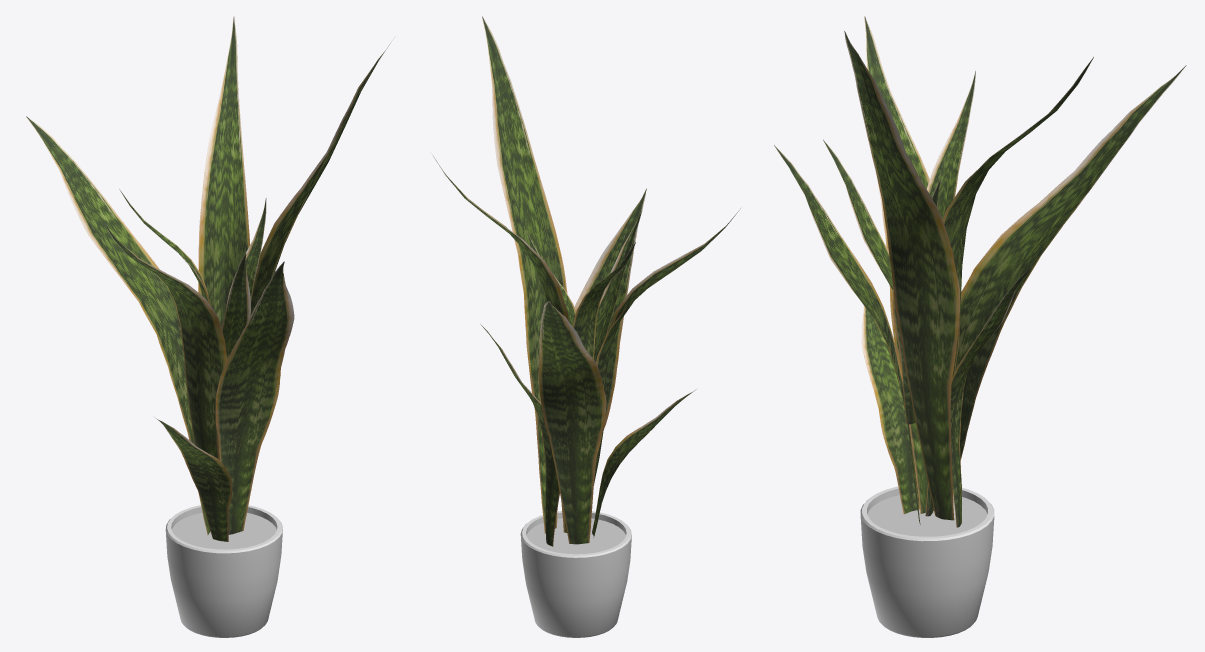
File: plant2.fbx
3 renders of one model, left to right at view 1: azimuth 30°, elevation 25°; view 2: azimuth 150°, elevation 25°; view 3: azimuth 270°, elevation 25°, orthographic. The views are drawn at different scales.
Visible parts, largest first — view 1: SnakePlant_01.001, SnakePlant_01; view 2: SnakePlant_01.001, SnakePlant_01; view 3: SnakePlant_01.001, SnakePlant_01.
Part boxes in pixels (x1=…): SnakePlant_01.001: x1=26, y1=16, x2=390, y2=541; SnakePlant_01: x1=165, y1=505, x2=282, y2=637; SnakePlant_01.001: x1=433, y1=16, x2=740, y2=546; SnakePlant_01: x1=520, y1=511, x2=631, y2=637; SnakePlant_01.001: x1=774, y1=16, x2=1186, y2=527; SnakePlant_01: x1=860, y1=486, x2=994, y2=637.
Bounding box in the file's own units: 47.24 × 90.03 × 51.39.
